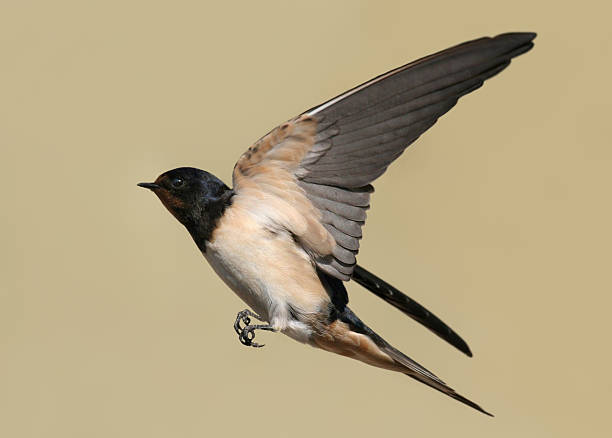Bird: (136, 27, 539, 416)
